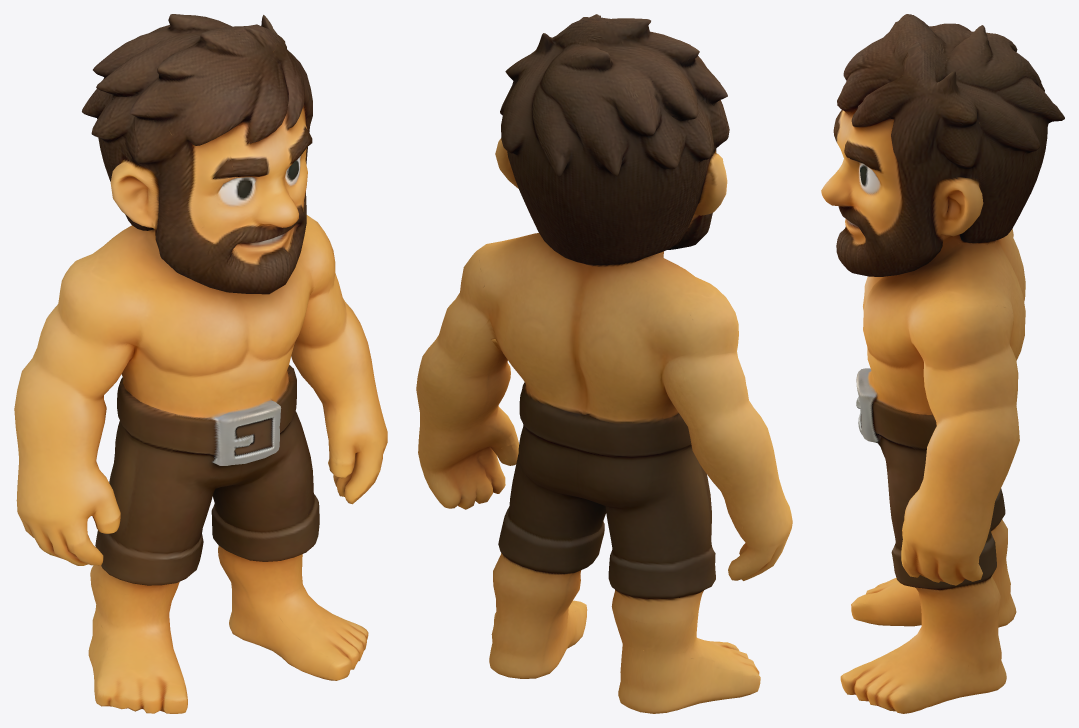
The model's file is base_basic_shaded.fbx.
3 views of the same model, side by side, from view 1: azimuth 30°, elevation 25°; view 2: azimuth 150°, elevation 25°; view 3: azimuth 270°, elevation 25° (orthographic). The views are drawn at different scales.
Visible parts, largest first — view 1: model; view 2: model; view 3: model.
Boxes of the visible parts, <box> form: model: <box>14,14,387,713</box>; model: <box>416,14,792,713</box>; model: <box>821,14,1064,713</box>.
Size of the model in its own units: 109 by 188 by 66.16.
